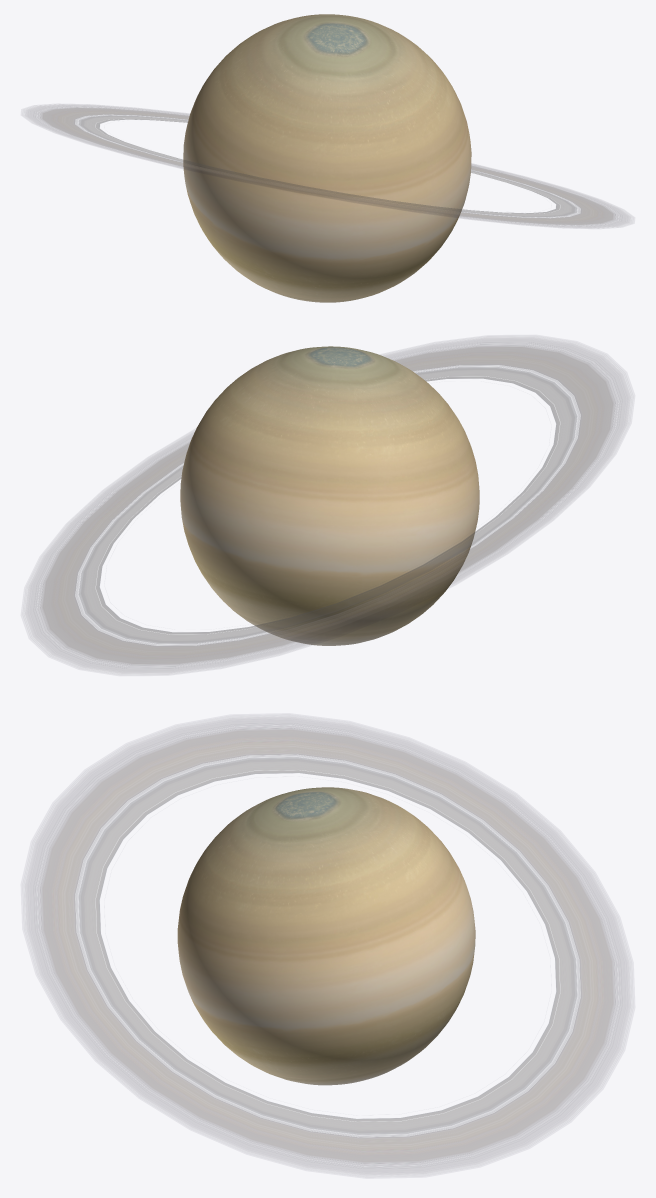
Rendered from saturn.glb.
3 renders of one model, top to bottom at view 1: azimuth 30°, elevation 25°; view 2: azimuth 150°, elevation 25°; view 3: azimuth 270°, elevation 25°, orthographic. The views are drawn at different scales.
Visible parts, largest first — view 1: saturn, saturn_ring; view 2: saturn, saturn_ring; view 3: saturn_ring, saturn.
Boxes of the visible parts, x1,y1,x2,y2 form: saturn: (183, 14, 471, 302); saturn_ring: (25, 104, 630, 228); saturn: (180, 346, 479, 645); saturn_ring: (25, 337, 630, 673); saturn_ring: (25, 717, 630, 1174); saturn: (177, 787, 475, 1085).
Size of the model in its own units: 9.26 by 4.3 by 9.07.
Materials: 2 (2 with a texture image).
